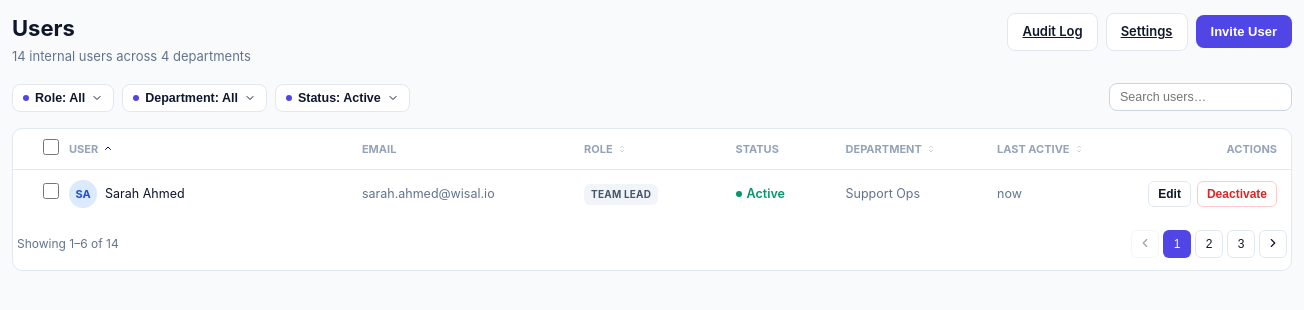
Test: UsersPage › writes a page change to the URL and requests that page from the server
The image size is (1304, 310).
Expected: the text "Sarah Ahmed" is shown, [105, 186, 185, 201]
Click the button named "Next page" at point(1273, 244), box [1259, 230, 1287, 258]
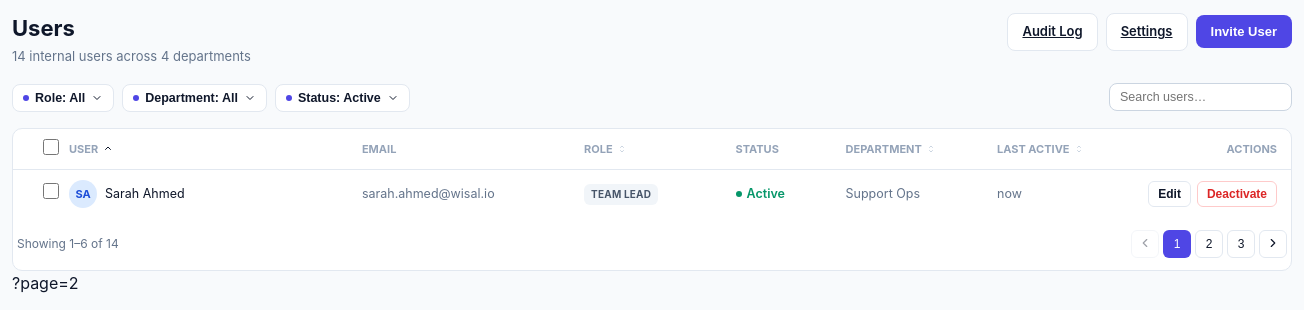
Now the text with test id "location" shows "page=2", box [12, 273, 79, 293]
